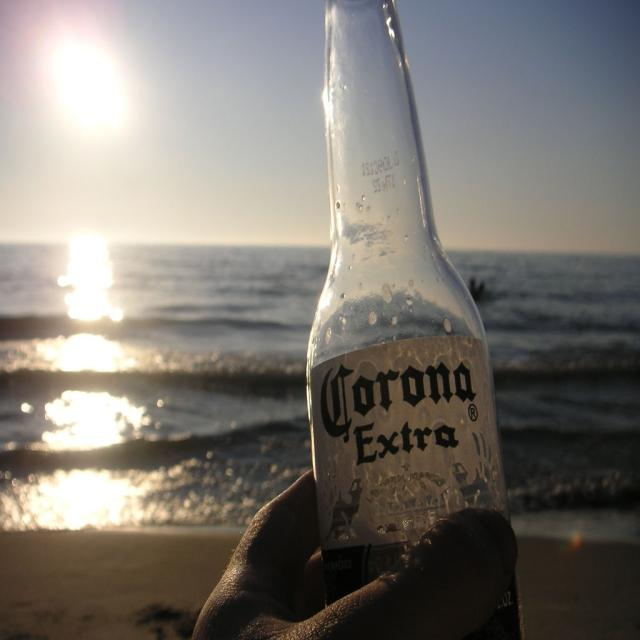corona: (311, 336, 505, 606)
